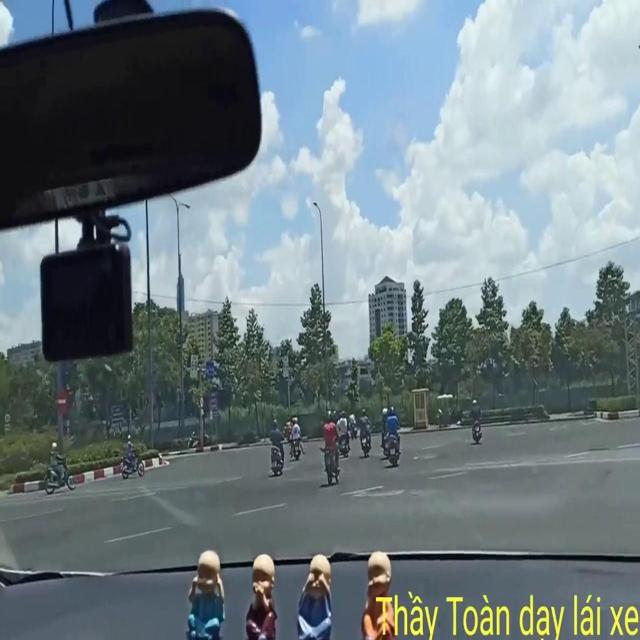Cấm các phương tiện hoạt động trong khung giờ cố định: (185, 348, 199, 385)
Cấm đi ngược chiều: (52, 391, 68, 412)
Khác: (103, 396, 128, 428), (208, 389, 219, 420)
Làn đường cho từng xe: (204, 358, 214, 380)
